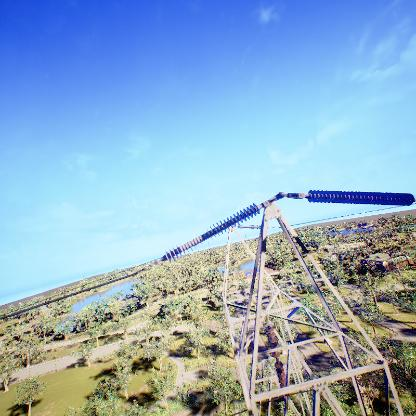insulator: (162, 201, 261, 264), (306, 189, 416, 208), (265, 325, 288, 392)
